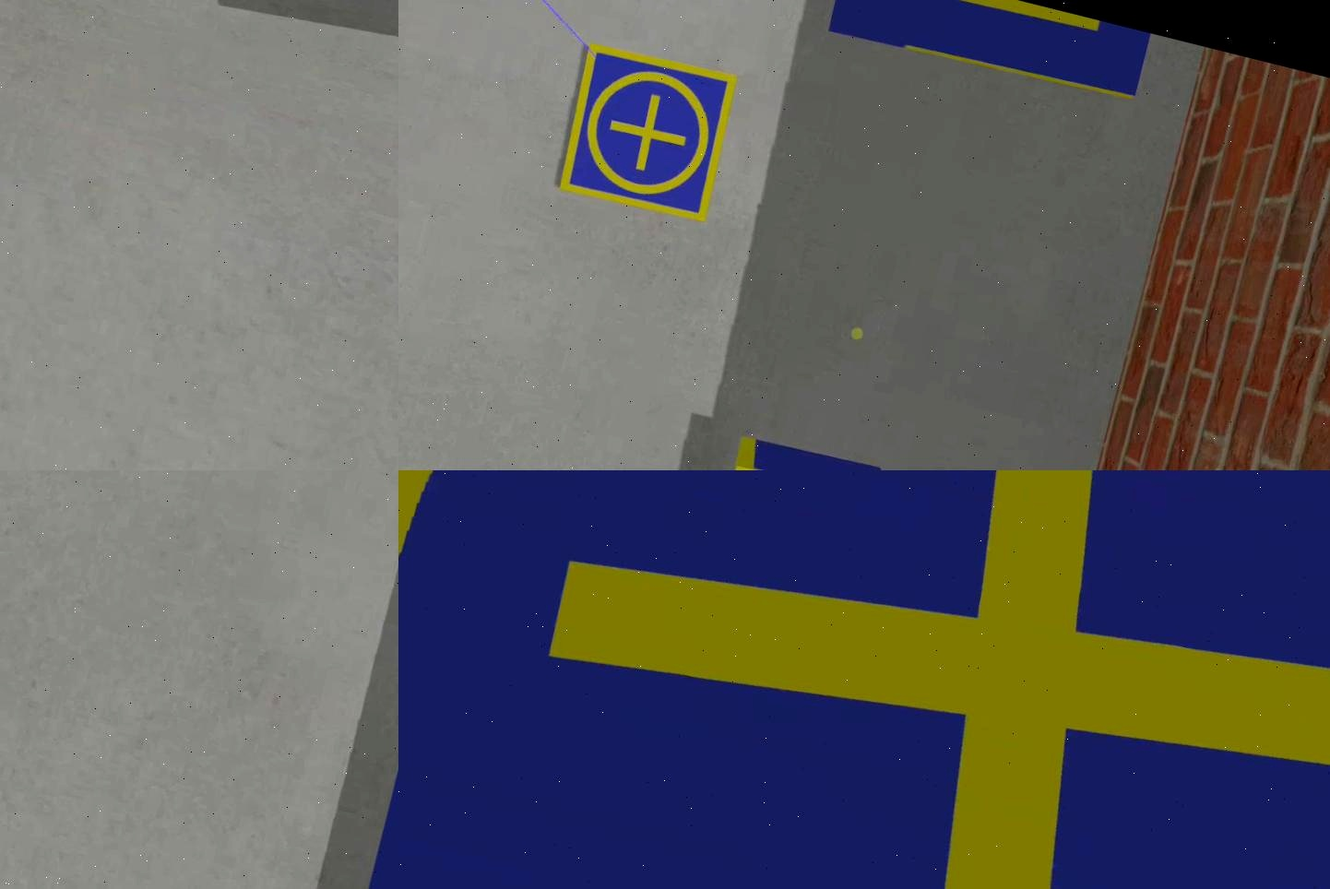large_base: (824, 1, 1149, 112)
small_base: (398, 471, 1330, 889), (551, 39, 745, 232)
